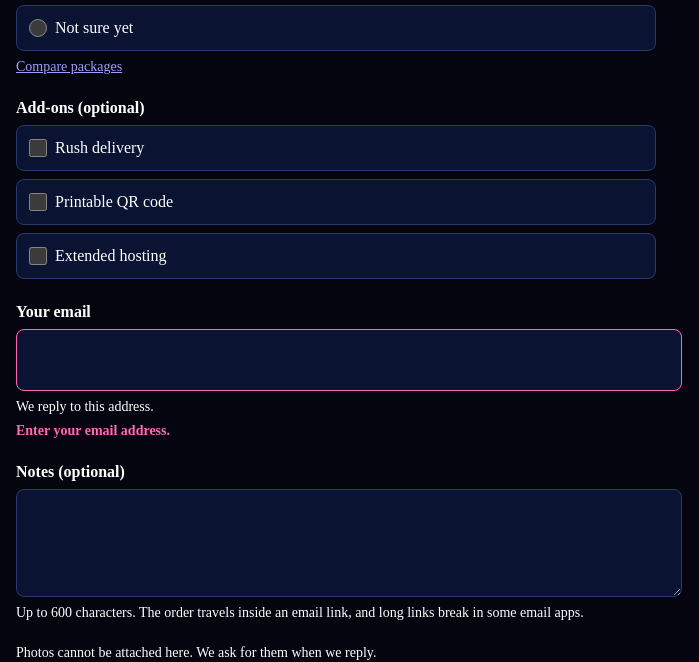
Scenario: OrderPage (component): validation › test_error_clears_on_fix
Earlier steps of the test are not shown.
(page scrolled)
Type "dan@" into the field labelled "Your email" at (349, 360), box x1=16 y1=329 x2=682 y2=391
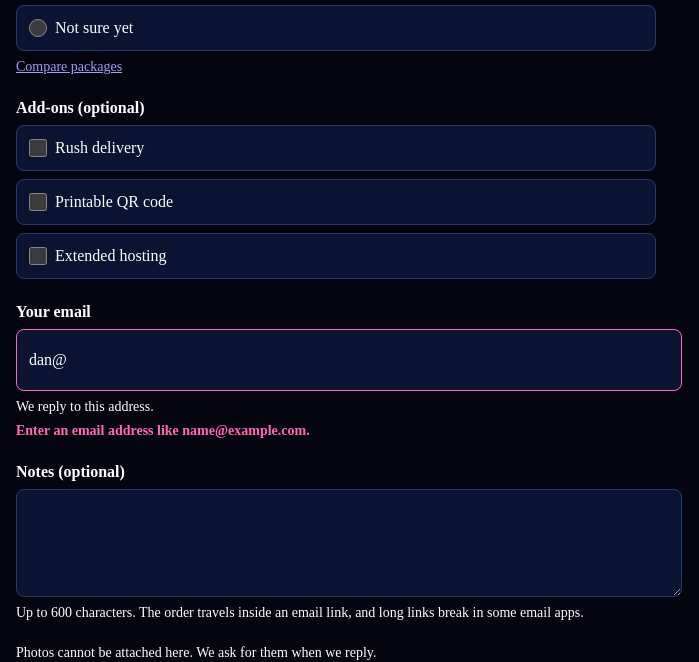
Expected: the text with id "order-email-error" reads "Enter an email address like name@example.com.", x1=16 y1=423 x2=310 y2=438
Replace the text in the field labelled "Your email" with "dan@example.org" at (349, 360), box x1=16 y1=329 x2=682 y2=391
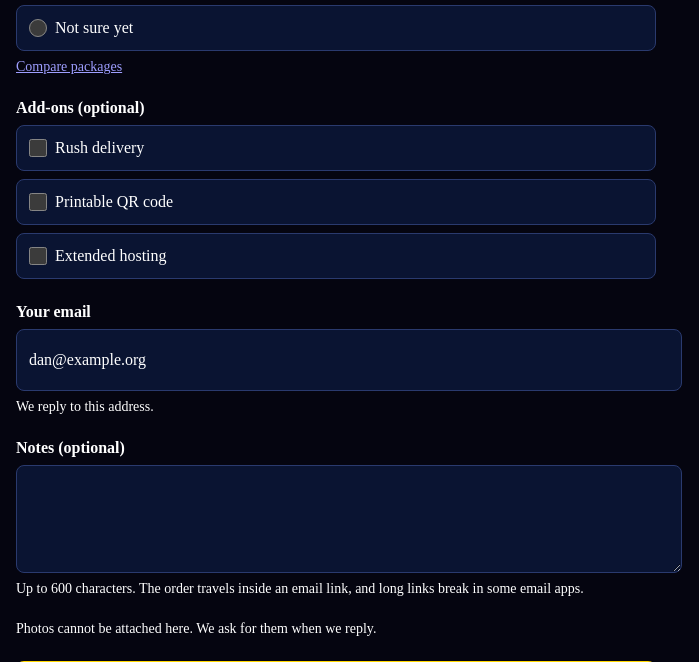
Expected: the text with id "order-email-error" is gone
